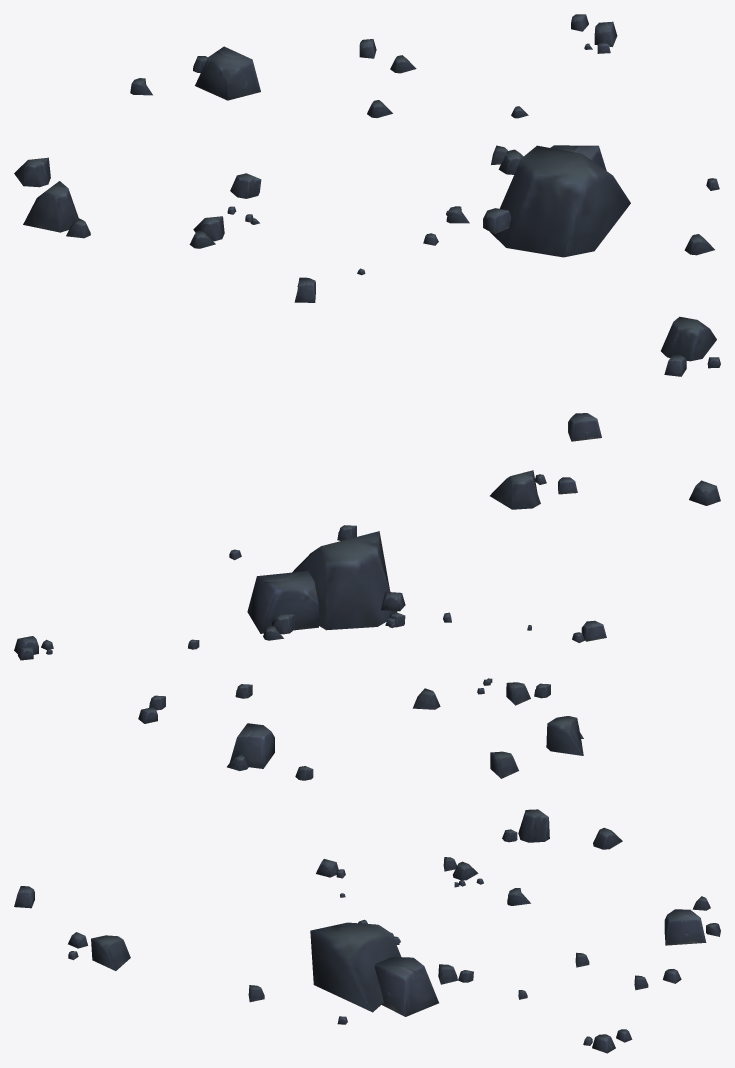
File: shitou18.fbx
3 renders of one model, top to bottom at view 1: azimuth 30°, elevation 25°; view 2: azimuth 150°, elevation 25°; view 3: azimuth 270°, elevation 25°, orthographic. The views are drawn at different scales.
Parts seen in each view (by area): view 1: shitou18; view 2: shitou18; view 3: shitou18.
Boxes of the visible parts, left/top/right/bottom form: shitou18: left=14, top=14, right=720, bottom=441; shitou18: left=14, top=470, right=720, bottom=780; shitou18: left=14, top=809, right=720, bottom=1053.
Size of the model in its own units: 6418 by 693 by 8375.
